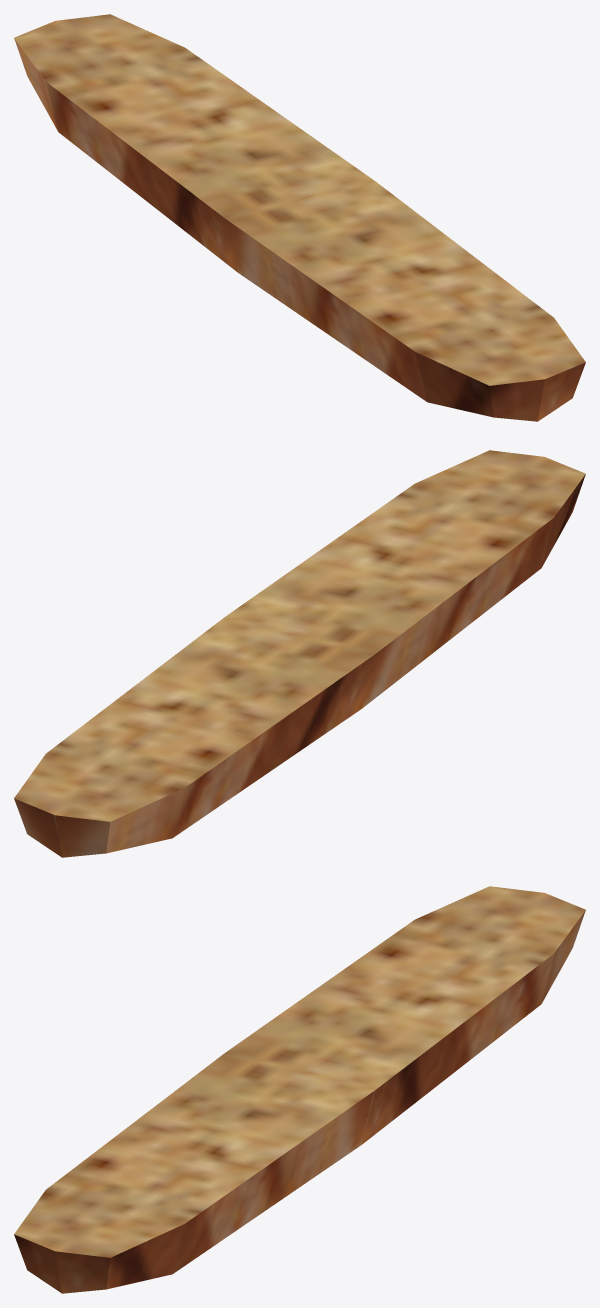
File: golden_ease_bottom.fbx
The picture shows the model from 3 angles, top to bottom: view 1: azimuth 30°, elevation 25°; view 2: azimuth 150°, elevation 25°; view 3: azimuth 330°, elevation 25°; orthographic projection.
Parts seen in each view (by area): view 1: golden ease bottom; view 2: golden ease bottom; view 3: golden ease bottom.
Part boxes in pixels (x1,y1,x2,y2): golden ease bottom: (14,14,585,421); golden ease bottom: (14,450,585,857); golden ease bottom: (14,886,585,1293).
Bounding box in the file's own units: 0.2082 × 1.17 × 0.0984.
